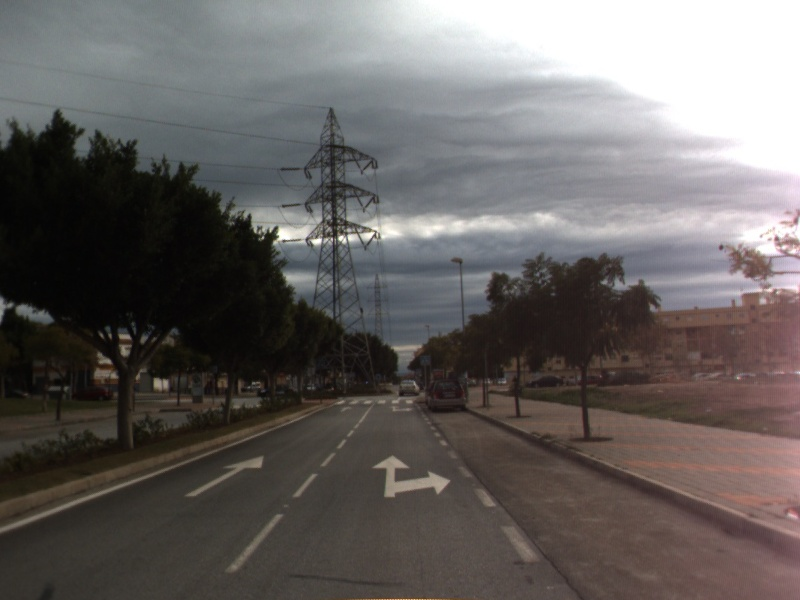STRAIGHT: (183, 453, 266, 498), (337, 404, 354, 414)
STRAIGHT_RIGHT: (370, 453, 453, 499), (387, 403, 416, 414)
